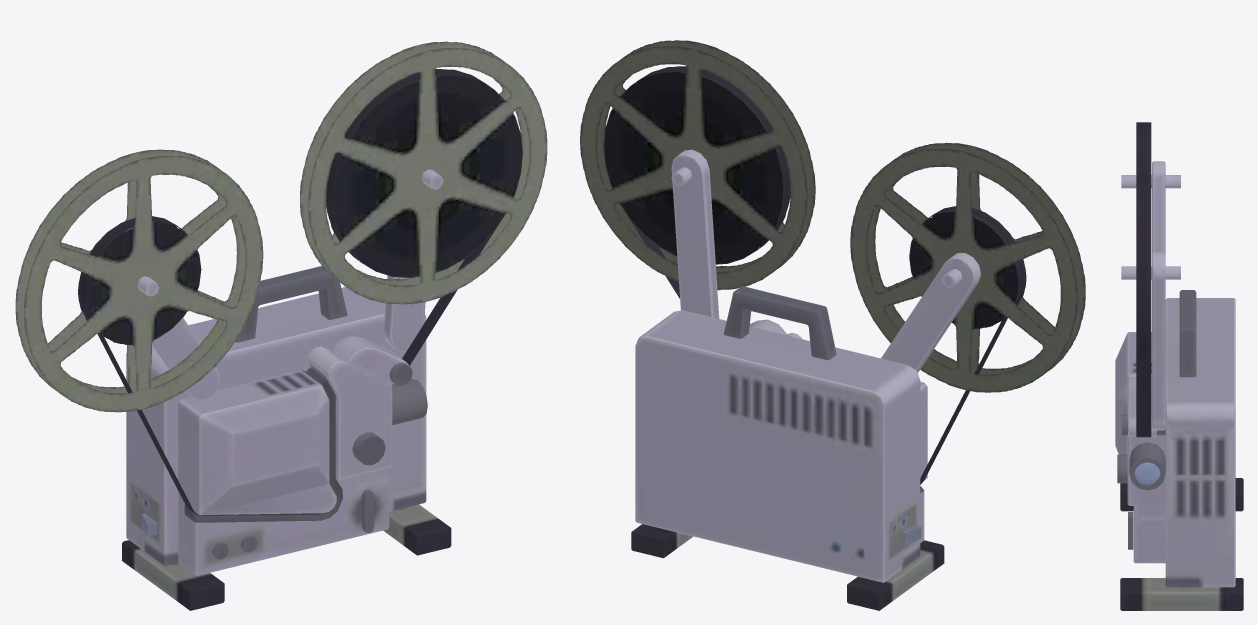
3 views of the same model, side by side, from view 1: azimuth 30°, elevation 25°; view 2: azimuth 150°, elevation 25°; view 3: azimuth 270°, elevation 25° (orthographic). The views are drawn at different scales.
Size of the model in its own units: 9.19 by 8.26 by 2.16.
2 materials, 2 textured.
